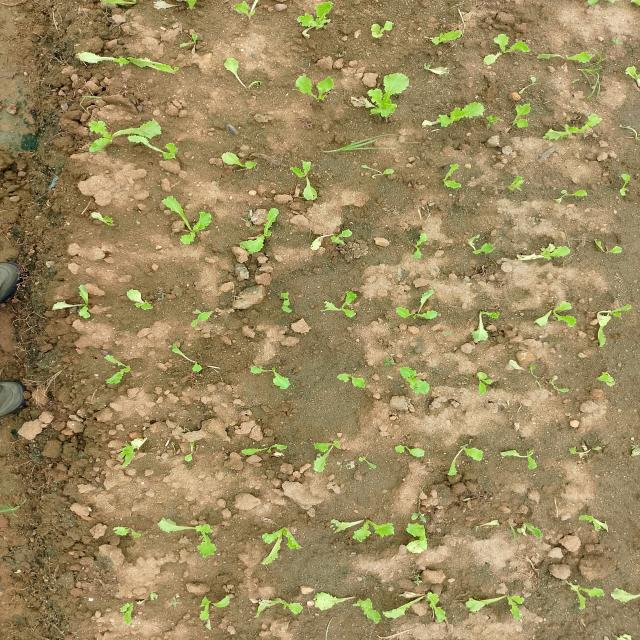Lettuce: (72, 44, 178, 82), (81, 120, 172, 162), (351, 70, 421, 124), (156, 519, 237, 560), (157, 194, 218, 247), (380, 584, 456, 622), (329, 508, 399, 548), (472, 510, 546, 546), (313, 587, 379, 625), (191, 584, 242, 632), (554, 572, 609, 616), (235, 207, 283, 255), (465, 588, 536, 620), (294, 0, 348, 42), (392, 284, 443, 326), (510, 236, 580, 266), (475, 34, 536, 68), (255, 529, 307, 568), (280, 156, 322, 204), (218, 54, 270, 91), (533, 297, 582, 335), (530, 40, 592, 70), (542, 113, 603, 143), (213, 144, 266, 178), (444, 440, 490, 479), (452, 230, 508, 262), (592, 301, 630, 348), (322, 286, 368, 324), (439, 96, 489, 130), (254, 592, 301, 627), (55, 280, 94, 322), (118, 588, 160, 626), (287, 70, 342, 98), (308, 222, 359, 252), (499, 439, 541, 474), (527, 365, 569, 400), (353, 163, 411, 188), (124, 137, 185, 160), (395, 364, 438, 396), (149, 0, 213, 21), (171, 340, 208, 376), (468, 310, 505, 345), (99, 352, 136, 386), (333, 372, 390, 394), (250, 361, 298, 387), (174, 32, 210, 64), (371, 16, 412, 44), (425, 25, 470, 50), (594, 234, 632, 263), (555, 436, 594, 464), (404, 520, 434, 554), (506, 98, 534, 134), (595, 364, 625, 396), (187, 307, 221, 335), (240, 443, 292, 461), (444, 157, 468, 196), (228, 0, 271, 21), (86, 0, 146, 15), (125, 284, 157, 312), (313, 439, 337, 476), (176, 434, 207, 462), (502, 168, 530, 198), (469, 370, 500, 397), (571, 513, 610, 533), (390, 440, 426, 461), (412, 226, 433, 262), (113, 522, 149, 542), (114, 444, 150, 464), (84, 207, 116, 229), (555, 186, 589, 206), (272, 291, 300, 314), (616, 168, 637, 198), (353, 451, 378, 474), (623, 62, 640, 88), (520, 399, 529, 402), (612, 415, 618, 419)
